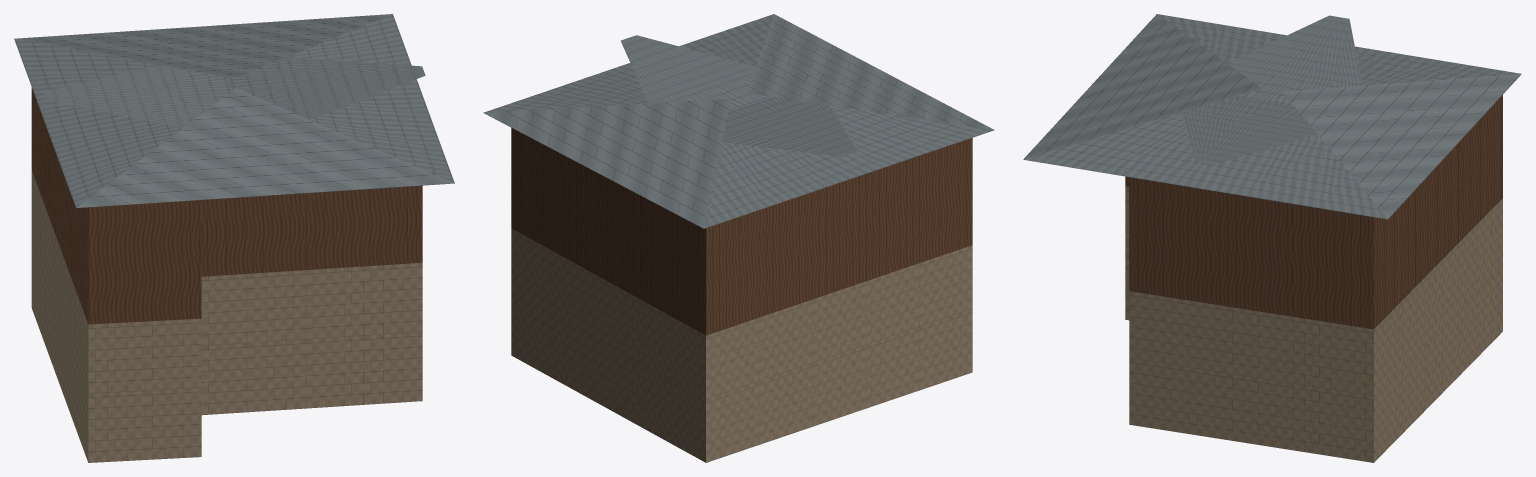
The model's file is bld_c6_37_521.gltf.
The picture shows the model from 3 angles, left to right: view 1: azimuth 30°, elevation 25°; view 2: azimuth 150°, elevation 25°; view 3: azimuth 270°, elevation 25°; orthographic projection. The views are drawn at different scales.
Parts seen in each view (by area): view 1: bld_c6_37_521; view 2: bld_c6_37_521; view 3: bld_c6_37_521.
Boxes of the visible parts, left/top/right/bottom form: bld_c6_37_521: left=14, top=14, right=454, bottom=462; bld_c6_37_521: left=483, top=14, right=994, bottom=462; bld_c6_37_521: left=1023, top=14, right=1521, bottom=462.
Size of the model in its own units: 16.47 by 10.5 by 16.89.
Materials: 3 (3 with a texture image).
